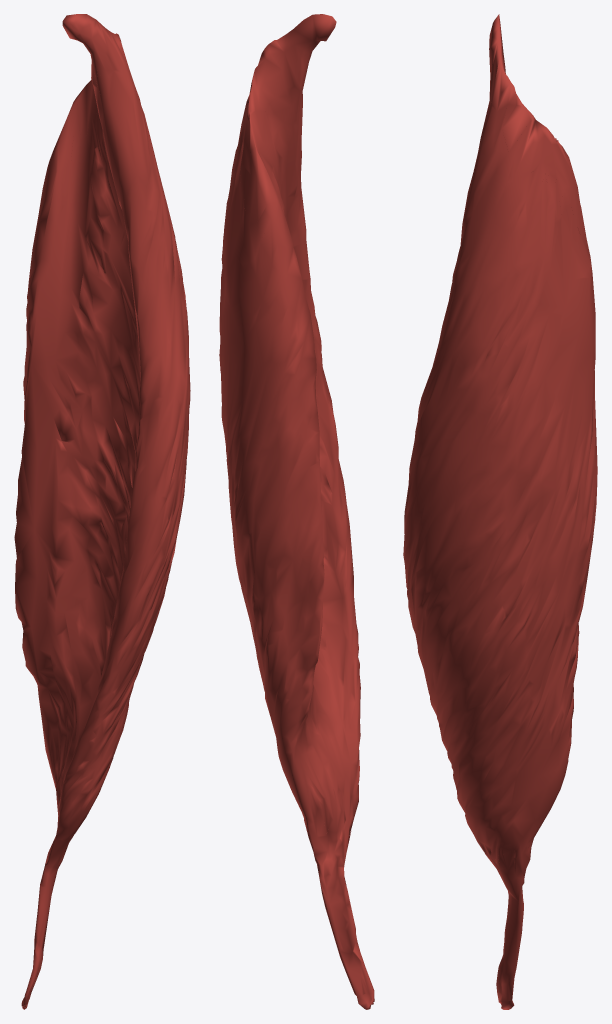
Rendered from musculos-vastus-lateralis-muscle-l.glb.
3 views of the same model, side by side, from view 1: azimuth 30°, elevation 25°; view 2: azimuth 150°, elevation 25°; view 3: azimuth 270°, elevation 25° (orthographic). The views are drawn at different scales.
Parts seen in each view (by area): view 1: Vastus lateralis muscle.l; view 2: Vastus lateralis muscle.l; view 3: Vastus lateralis muscle.l.
Part boxes in pixels (x1,y1,x2,y2): Vastus lateralis muscle.l: (14, 14, 190, 1009); Vastus lateralis muscle.l: (219, 14, 374, 1009); Vastus lateralis muscle.l: (403, 14, 597, 1009).
Bounding box in the file's own units: 0.074 × 0.4572 × 0.0792.
